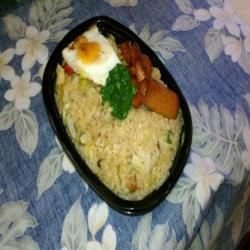omelette: (61, 34, 121, 83)
rice: (56, 79, 178, 201)
